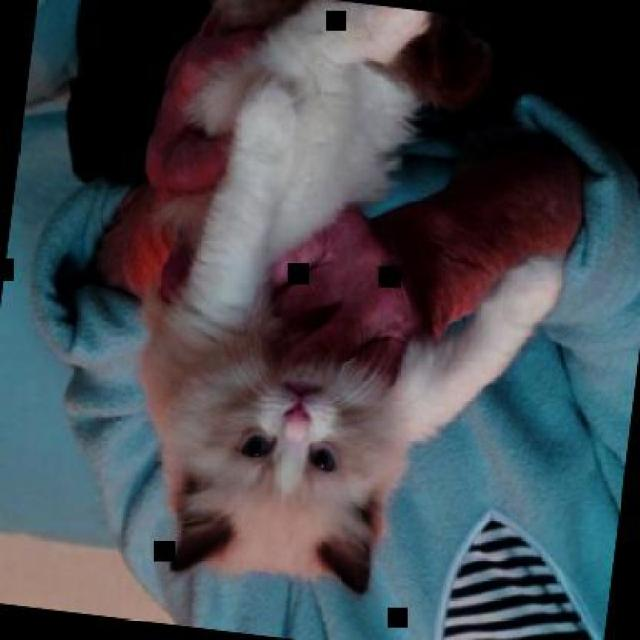cat: (113, 0, 592, 618)
